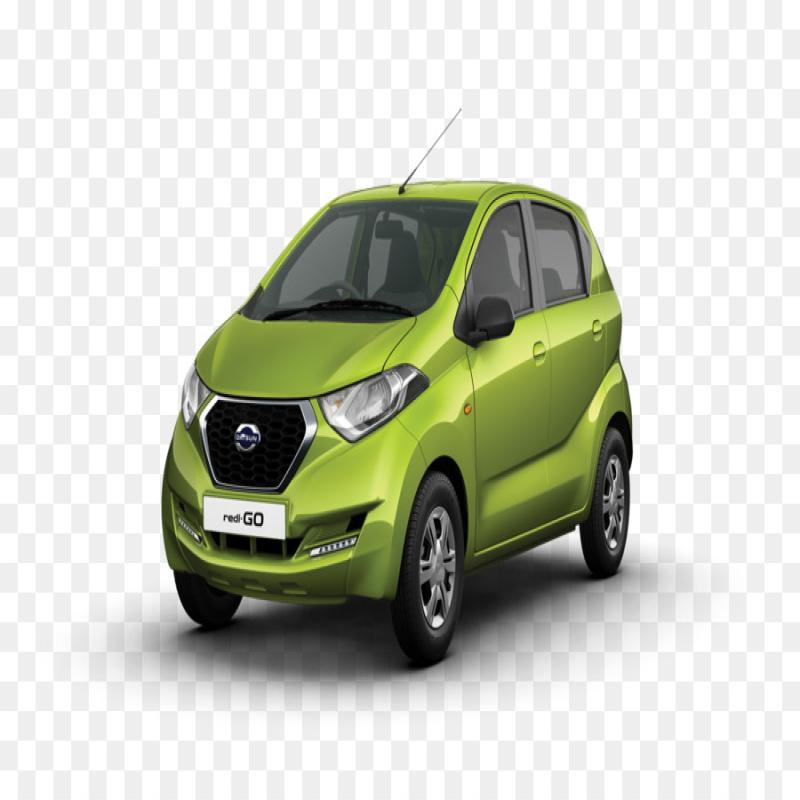car: (149, 134, 640, 657)
